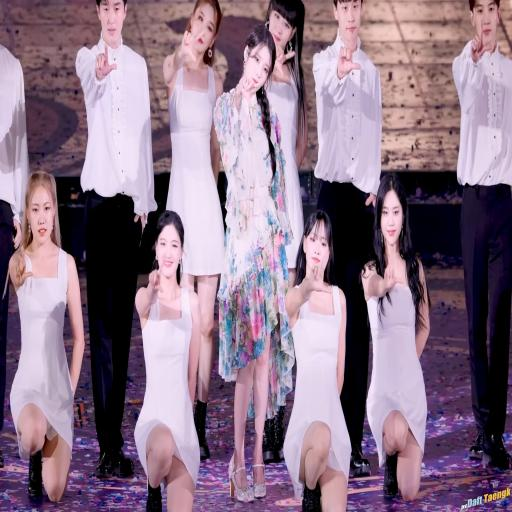IU: (244, 24, 276, 95)
